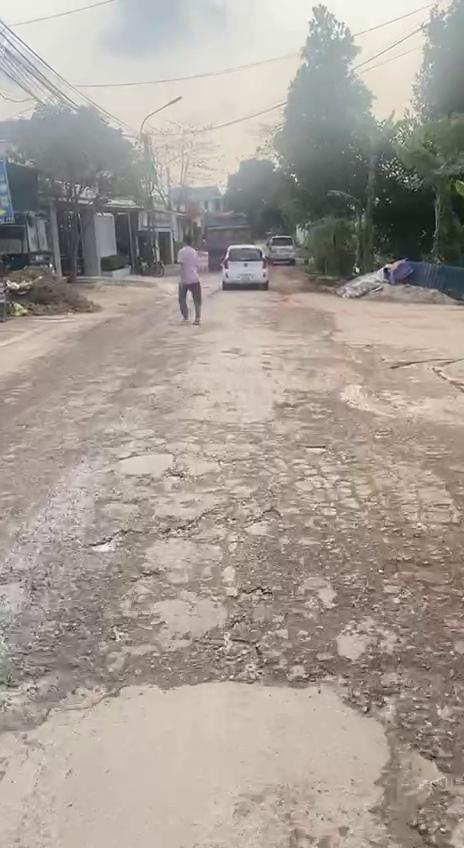pothole: (374, 741, 464, 848), (295, 665, 399, 727), (203, 624, 267, 684), (0, 660, 66, 711), (81, 526, 131, 557)
